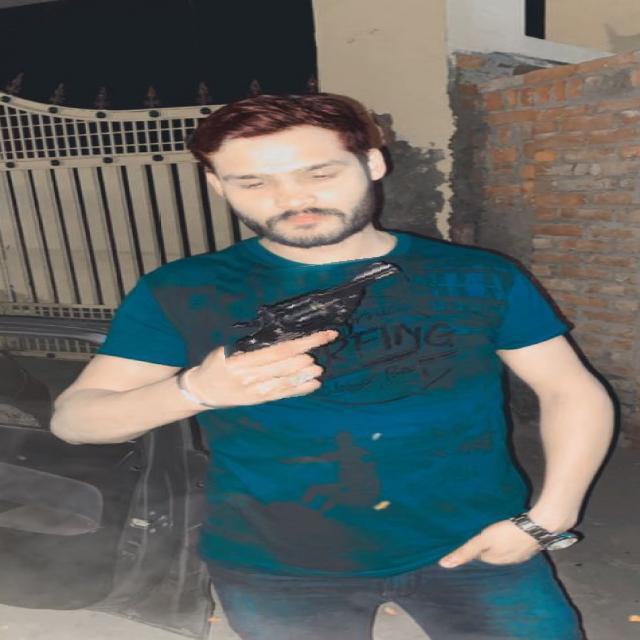handgun: (218, 258, 418, 398)
